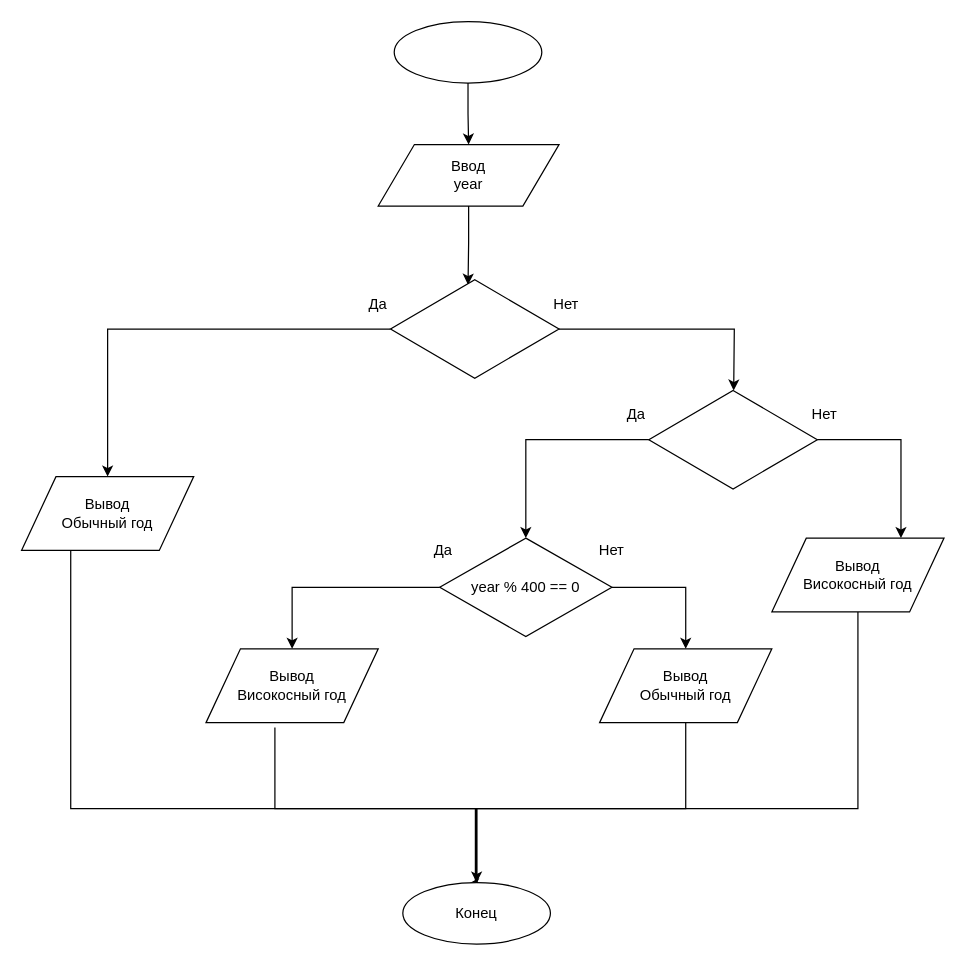
Some shapes in this 966 by 966 pixel diagram are drawn without their labels. Each missing label, with the box of its shape:
year % 100 == 0: (648, 389, 817, 489)
year % 4 != 0: (389, 279, 559, 378)
Начало: (393, 20, 542, 83)
